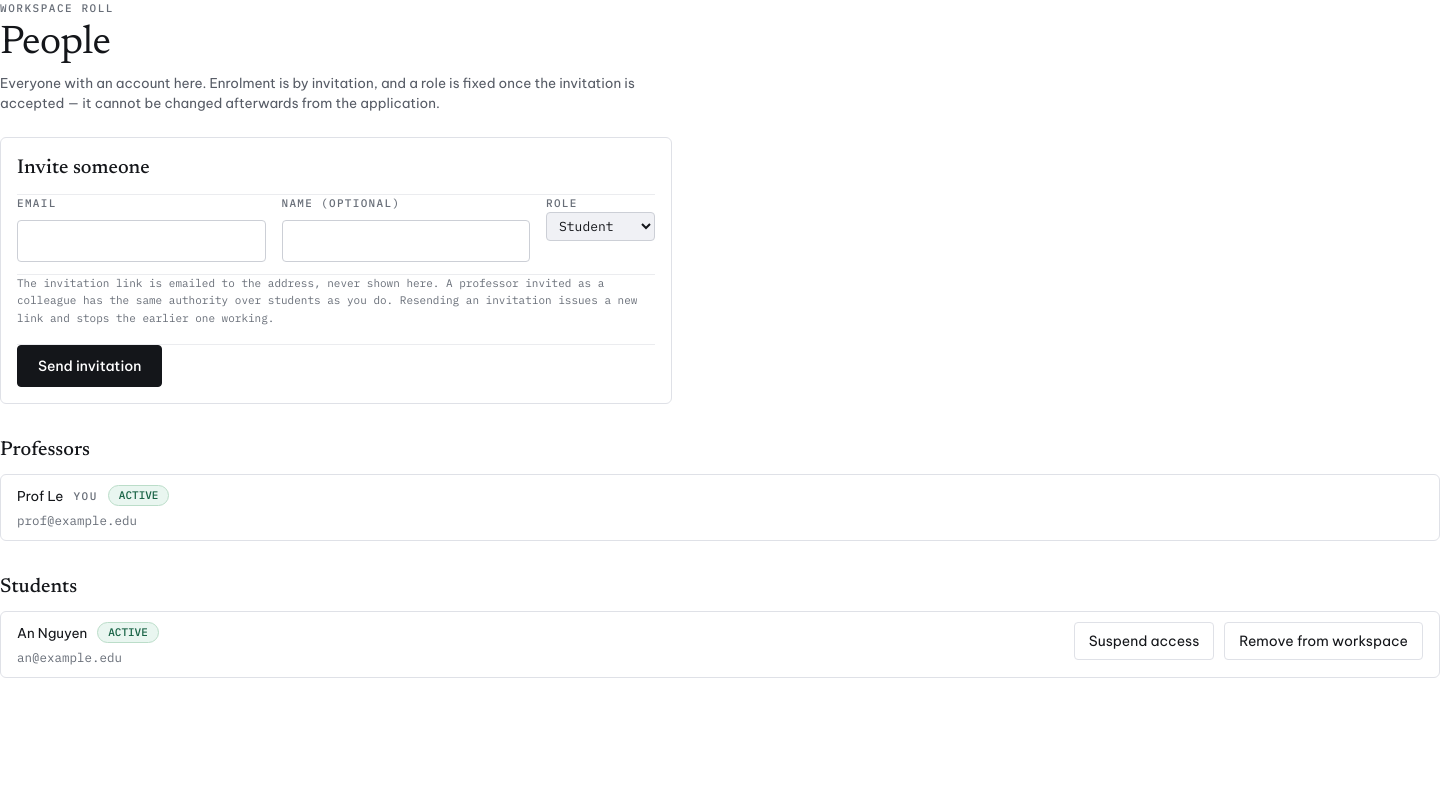
Test: a refusal from the API is shown rather than swallowed
This screenshot has width=1440, height=810.
Expected: the link "An Nguyen" is shown, [17,623,87,643]
Step 1. Click the button "Remove from workspace" → (1324,641), box [1224,622,1423,660]
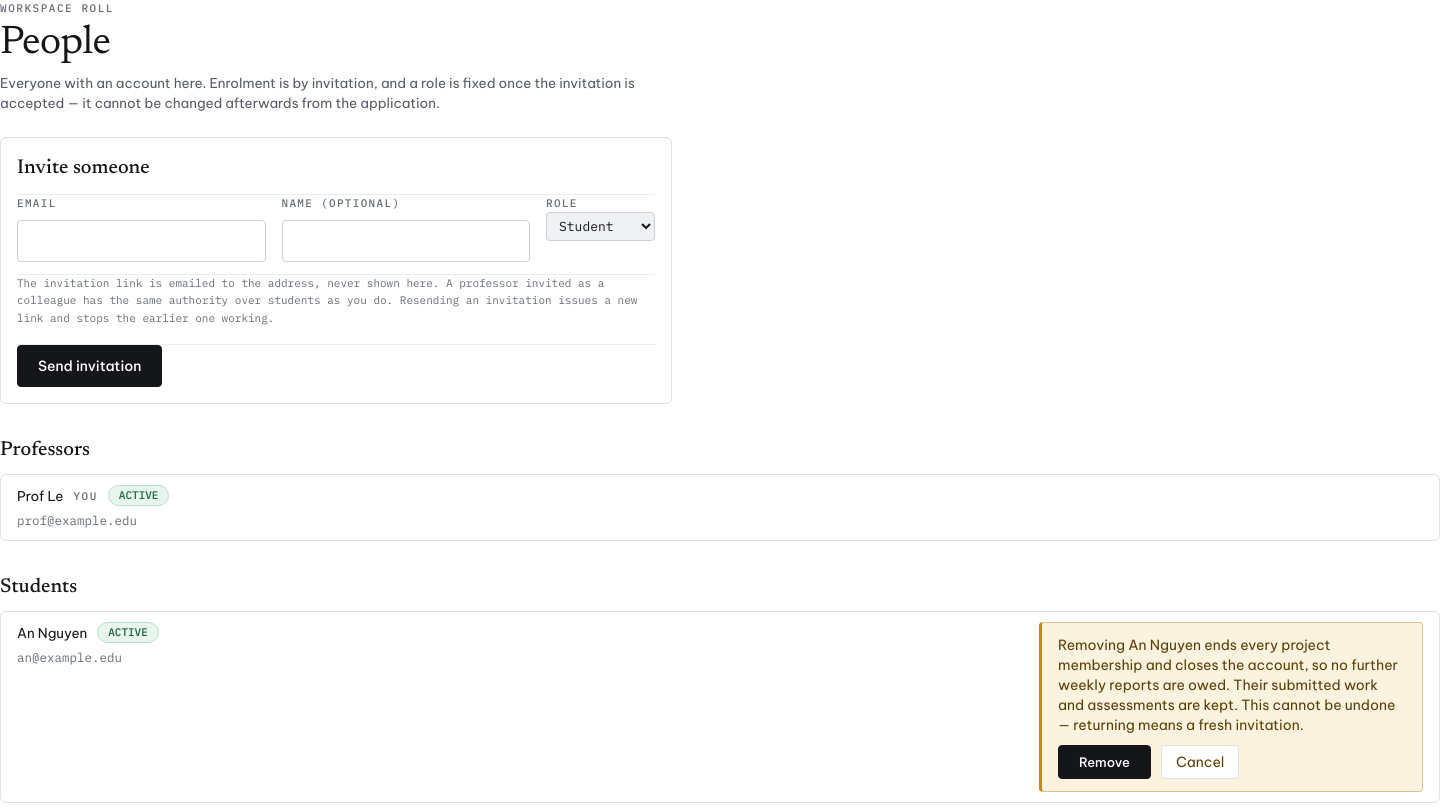
Step 2. Click the button "Remove" → (1104,762), box [1058,745,1151,779]
(page scrolled)
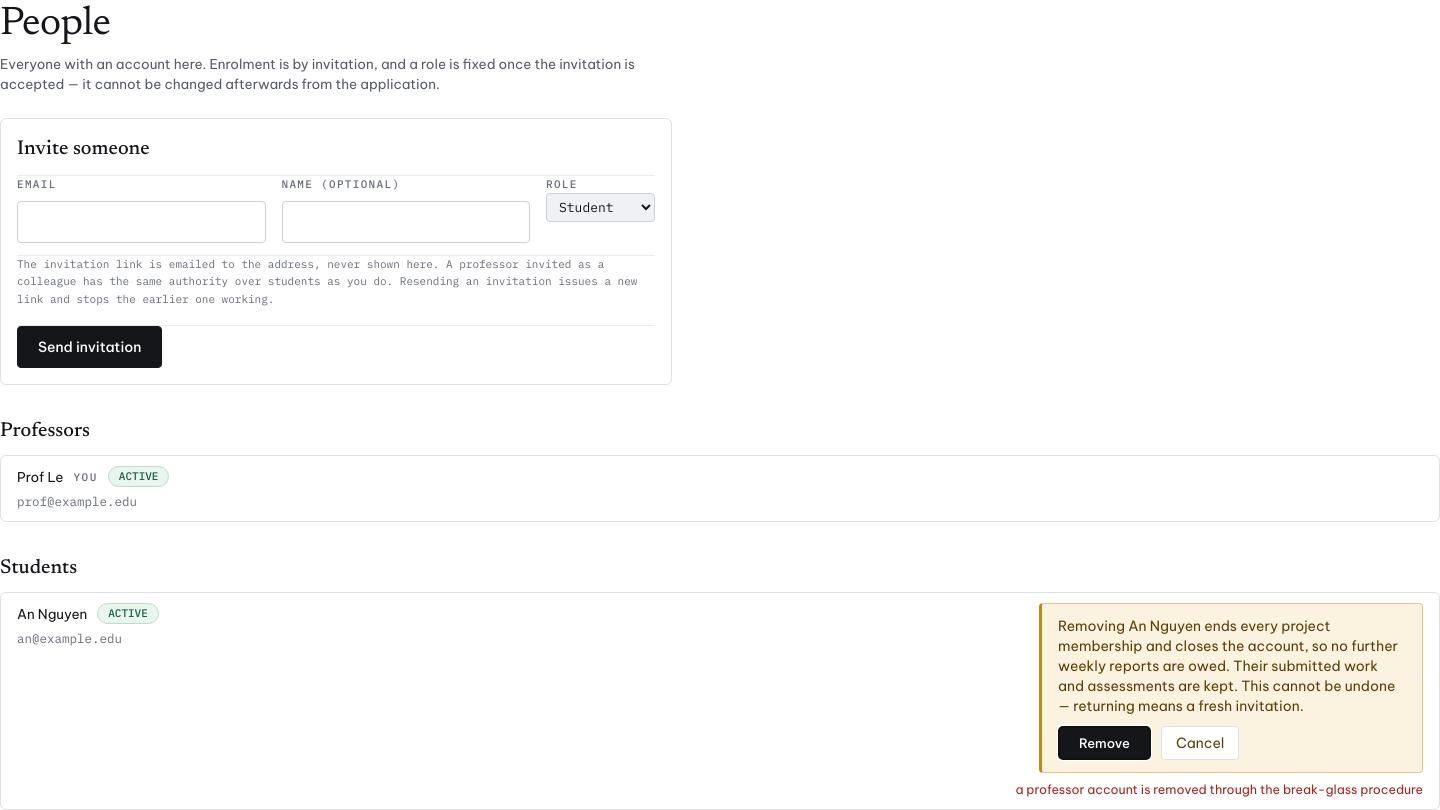
Expected: the message shows "break-glass", [1016,781,1423,797]
